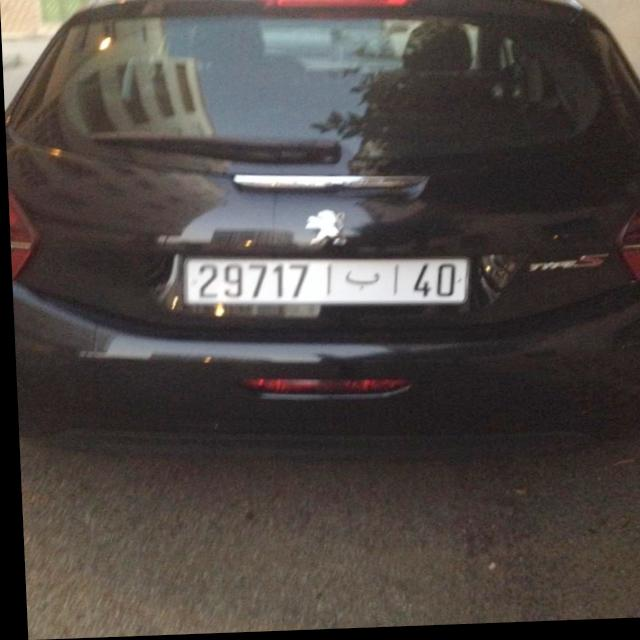License-Plate: (181, 259, 465, 307)
